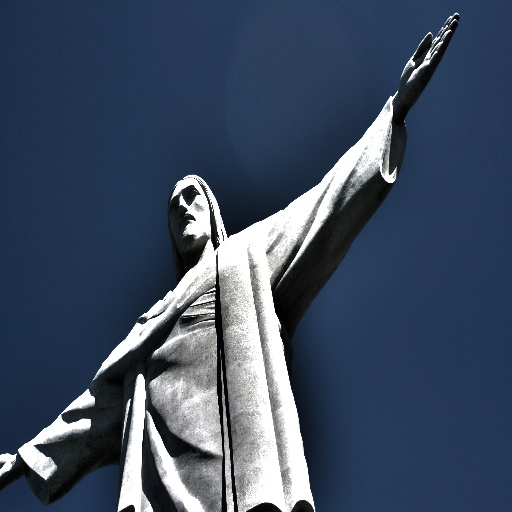hand: (386, 18, 457, 124), (0, 450, 17, 493)
